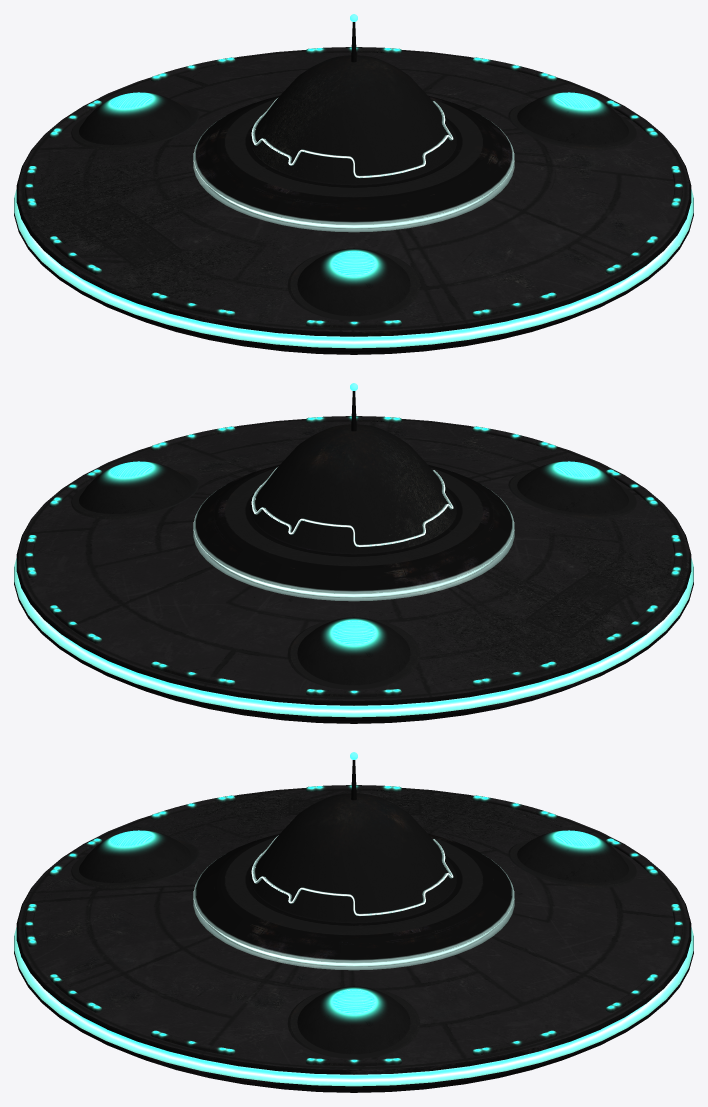
The picture shows the model from 3 angles, top to bottom: view 1: azimuth 30°, elevation 25°; view 2: azimuth 150°, elevation 25°; view 3: azimuth 270°, elevation 25°; orthographic projection.
Parts seen in each view (by area): view 1: ufo.1; view 2: ufo.1; view 3: ufo.1.
Boxes of the visible parts, x1,y1,x2,y2 form: ufo.1: (14,14,693,354); ufo.1: (14,383,693,723); ufo.1: (14,752,693,1092).
Bounding box in the file's own units: 0.9733 × 0.4011 × 0.9717.
Materials: 1 (1 with a texture image).
